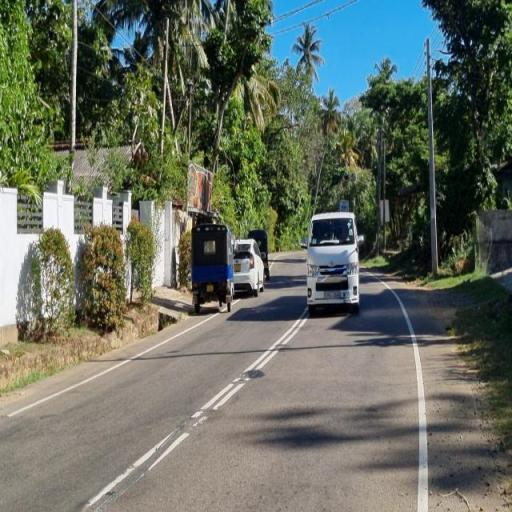double_white_line: (186, 312, 308, 428)
